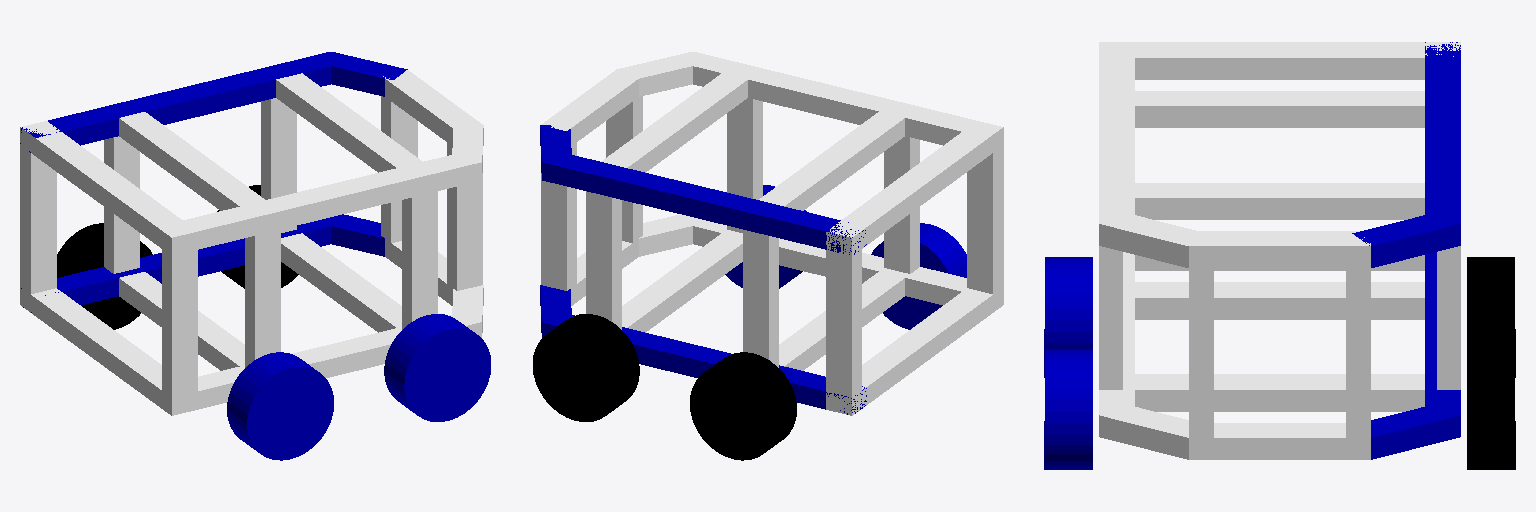
--- What the picture shows (computed from the rendered views, not written in the file) ---
3 views of the same robot in one strip: view 1: azimuth 30°, elevation 25°; view 2: azimuth 150°, elevation 25°; view 3: azimuth 270°, elevation 25° (orthographic).
Model GUELADAN with 31 links and 30 joints (4 continuous, 26 fixed), rooted at base_link, posed all joints at 0.
Visible links, largest first — view 1: chassis_top_link_right, back_right_wheel, front_right_wheel, chassis_top_link_left, chassis_top_link_back, chassis_link_back, chassis_top_link_2, chassis_top_link_1, base_chassis_bar_back_right, base_chassis_bar_back_left, chassis_link_2, chassis_link_right (+16 smaller); view 2: chassis_top_link_left, back_left_wheel, front_left_wheel, chassis_top_link_right, chassis_top_link_back, chassis_link_back, chassis_top_link_2, chassis_top_link_1, base_chassis_bar_back_left, base_chassis_bar_back_right, chassis_link_2, base_chassis_bar_back_2_left (+16 smaller); view 3: chassis_top_link_back, chassis_top_link_1, chassis_top_link_2, chassis_link_1, chassis_link_2, chassis_top_link_front, chassis_top_link_left, chassis_top_link_right, chassis_link_front, front_left_wheel, front_right_wheel, back_left_wheel (+12 smaller).
Boxes of the visible links, x1,y1,x2,y2 form: chassis_top_link_right: [160, 153, 481, 255]; back_right_wheel: [227, 352, 333, 460]; front_right_wheel: [384, 314, 490, 421]; chassis_top_link_left: [20, 52, 333, 152]; chassis_top_link_back: [20, 121, 197, 255]; chassis_link_back: [20, 287, 197, 415]; chassis_top_link_2: [276, 73, 422, 172]; chassis_top_link_1: [119, 112, 264, 210]; base_chassis_bar_back_right: [162, 249, 197, 397]; base_chassis_bar_back_left: [20, 145, 56, 293]; chassis_link_2: [281, 233, 401, 332]; chassis_link_right: [157, 311, 481, 415]; chassis_top_link_left: [542, 155, 866, 254]; back_left_wheel: [690, 352, 796, 460]; front_left_wheel: [533, 314, 639, 421]; chassis_top_link_right: [690, 52, 1003, 145]; chassis_top_link_back: [826, 121, 1003, 255]; chassis_link_back: [826, 287, 1003, 415]; chassis_top_link_2: [601, 73, 747, 172]; chassis_top_link_1: [759, 112, 904, 210]; base_chassis_bar_back_left: [826, 249, 861, 397]; base_chassis_bar_back_right: [967, 145, 1003, 293]; chassis_link_2: [622, 233, 742, 332]; base_chassis_bar_back_2_left: [586, 191, 621, 329]; chassis_top_link_back: [1099, 42, 1460, 79]; chassis_top_link_1: [1135, 91, 1424, 127]; chassis_top_link_2: [1135, 183, 1424, 219]; chassis_link_1: [1135, 282, 1424, 319]; chassis_link_2: [1135, 374, 1424, 411]; chassis_top_link_front: [1189, 231, 1370, 267]; chassis_top_link_left: [1425, 42, 1460, 223]; chassis_top_link_right: [1099, 42, 1134, 223]; chassis_link_front: [1189, 423, 1370, 459]; front_left_wheel: [1467, 349, 1515, 469]; front_right_wheel: [1044, 349, 1092, 469]; back_left_wheel: [1467, 257, 1515, 377].
Size in the robot's own frame: 0.8007 by 0.7802 by 0.5 metres.
Geometry: primitives only (box / cylinder / sphere), no mesh files.

robot.urdf — GUELADAN:
<?xml version="1.0" ?>
<!-- =================================================================================== -->
<!-- |    This document was autogenerated by xacro from gueladan.urdf.xacro            | -->
<!-- |    EDITING THIS FILE BY HAND IS NOT RECOMMENDED                                 | -->
<!-- =================================================================================== -->
<robot name="GUELADAN">
  <!-- Specify some standard inertial calculations https://en.wikipedia.org/wiki/List_of_moments_of_inertia -->
  <!-- These make use of xacro's mathematical functionality -->
  <material name="blue">
    <color rgba="0 0 0.8 1"/>
  </material>
  <material name="black">
    <color rgba="0 0 0 1"/>
  </material>
  <material name="white">
    <color rgba="1 1 1 1"/>
  </material>
  <link name="base_link"/>
  <joint name="base_join" type="fixed">
    <parent link="base_link"/>
    <child link="chassis_link_back"/>
    <origin rpy="0 0 0" xyz="-0.325 0 0"/>
  </joint>
  <link name="chassis_link_back">
    <visual>
      <geometry>
        <box size="0.06 0.6 0.04"/>
      </geometry>
      <origin rpy="0 0 0" xyz="0 0 0"/>
      <material name="white"/>
    </visual>
    <collision>
      <geometry>
        <box size="0.06 0.6 0.04"/>
      </geometry>
      <origin rpy="0 0 0" xyz="0 0 0"/>
    </collision>
    <inertial>
      <origin rpy="0 0 0" xyz="0 0 0"/>
      <mass value="1.8"/>
      <inertia ixx="0.05424" ixy="0.0" ixz="0.0" iyy="0.00078" iyz="0.0" izz="0.05454"/>
    </inertial>
  </link>
  <joint name="base_link_right_joint" type="fixed">
    <parent link="base_link"/>
    <child link="chassis_link_right"/>
    <origin rpy="0 0 0" xyz="0 -0.27 0"/>
  </joint>
  <joint name="base_link_left_joint" type="fixed">
    <parent link="base_link"/>
    <child link="chassis_link_left"/>
    <origin rpy="0 0 0" xyz="0 0.27 0"/>
  </joint>
  <link name="chassis_link_right">
    <visual>
      <geometry>
        <box size="0.71 0.06 0.04"/>
      </geometry>
      <origin rpy="0 0 0" xyz="0 0 0"/>
      <material name="white"/>
    </visual>
    <collision>
      <geometry>
        <box size="0.71 0.06 0.04"/>
      </geometry>
      <origin rpy="0 0 0" xyz="0 0 0"/>
      <material name="white"/>
    </collision>
    <inertial>
      <origin rpy="0 0 0" xyz="0 0 0"/>
      <mass value="2.13"/>
      <inertia ixx="0.0009229999999999999" ixy="0.0" ixz="0.0" iyy="0.08976175" iyz="0.0" izz="0.09011675000000001"/>
    </inertial>
  </link>
  <link name="chassis_link_left">
    <visual>
      <geometry>
        <box size="0.71 0.06 0.04"/>
      </geometry>
      <origin rpy="0 0 0" xyz="0 0 0"/>
      <material name="blue"/>
    </visual>
    <collision>
      <geometry>
        <box size="0.71 0.06 0.04"/>
      </geometry>
      <origin rpy="0 0 0" xyz="0 0 0"/>
      <material name="blue"/>
    </collision>
    <inertial>
      <origin rpy="0 0 0" xyz="0 0 0"/>
      <mass value="2.13"/>
      <inertia ixx="0.029039000000000002" ixy="0.0" ixz="0.0" iyy="0.11787775" iyz="0.0" izz="0.09011675000000001"/>
    </inertial>
  </link>
  <joint name="base_link_right_oblic_joint" type="fixed">
    <parent link="base_link"/>
    <child link="chassis_link_right_oblic"/>
    <origin rpy="0 0 -2.11" xyz="0.375 -0.21 0"/>
  </joint>
  <joint name="base_link_left_oblic_joint" type="fixed">
    <parent link="base_link"/>
    <child link="chassis_link_left_oblic"/>
    <origin rpy="0 0 2.11" xyz="0.375 0.21 0"/>
  </joint>
  <joint name="base_link_front_joint" type="fixed">
    <parent link="base_link"/>
    <child link="chassis_link_front"/>
    <origin rpy="0 0 0" xyz="0.415 0 0"/>
  </joint>
  <joint name="chassis_link_2_joint" type="fixed">
    <parent link="base_link"/>
    <child link="chassis_link_2"/>
    <origin rpy="0 0 0" xyz="0.2254 0 0"/>
  </joint>
  <joint name="chassis_link_1_joint" type="fixed">
    <parent link="base_link"/>
    <child link="chassis_link_1"/>
    <origin rpy="0 0 0" xyz="-0.1346 0 0"/>
  </joint>
  <link name="chassis_link_left_oblic">
    <visual>
      <geometry>
        <box size="0.175 0.06 0.04"/>
      </geometry>
      <origin rpy="0 0 0" xyz="0 0 0"/>
      <material name="blue"/>
    </visual>
    <collision>
      <geometry>
        <box size="0.175 0.06 0.04"/>
      </geometry>
      <origin rpy="0 0 0" xyz="0 0 0"/>
      <material name="blue"/>
    </collision>
    <inertial>
      <origin rpy="0 0 0" xyz="0 0 0"/>
      <mass value="0.525"/>
      <inertia ixx="0.00022749999999999997" ixy="0.0" ixz="0.0" iyy="0.0014098437499999999" iyz="0.0" izz="0.0014973437499999998"/>
    </inertial>
  </link>
  <link name="chassis_link_right_oblic">
    <visual>
      <geometry>
        <box size="0.175 0.06 0.04"/>
      </geometry>
      <origin rpy="0 0 0" xyz="0 0 0"/>
      <material name="white"/>
    </visual>
    <collision>
      <geometry>
        <box size="0.175 0.06 0.04"/>
      </geometry>
      <origin rpy="0 0 0" xyz="0 0 0"/>
      <material name="white"/>
    </collision>
    <inertial>
      <origin rpy="0 0 0" xyz="0 0 0"/>
      <mass value="0.525"/>
      <inertia ixx="0.007157500000000001" ixy="0.0" ixz="0.0" iyy="0.008339843750000001" iyz="0.0" izz="0.0014973437499999998"/>
    </inertial>
  </link>
  <link name="chassis_link_front">
    <visual>
      <geometry>
        <box size="0.06 0.3 0.04"/>
      </geometry>
      <origin rpy="0 0 0" xyz="0 0 0"/>
      <material name="white"/>
    </visual>
    <collision>
      <geometry>
        <box size="0.06 0.3 0.04"/>
      </geometry>
      <origin rpy="0 0 0" xyz="0 0 0"/>
      <material name="white"/>
    </collision>
    <inertial>
      <origin rpy="0 0 0" xyz="0 0 0"/>
      <mass value="0.9"/>
      <inertia ixx="0.00687" ixy="0.0" ixz="0.0" iyy="0.00039" iyz="0.0" izz="0.00702"/>
    </inertial>
  </link>
  <link name="chassis_link_1">
    <visual>
      <geometry>
        <box size="0.06 0.48 0.04"/>
      </geometry>
      <origin rpy="0 0 0" xyz="0 0 0"/>
      <material name="white"/>
    </visual>
    <collision>
      <geometry>
        <box size="0.06 0.48 0.04"/>
      </geometry>
      <origin rpy="0 0 0" xyz="0 0 0"/>
      <material name="white"/>
    </collision>
    <inertial>
      <origin rpy="0 0 0" xyz="0 0 0"/>
      <mass value="0.9"/>
      <inertia ixx="0.00687" ixy="0.0" ixz="0.0" iyy="0.00039" iyz="0.0" izz="0.00702"/>
    </inertial>
  </link>
  <link name="chassis_link_2">
    <visual>
      <geometry>
        <box size="0.06 0.48 0.04"/>
      </geometry>
      <origin rpy="0 0 0" xyz="0 0 0"/>
      <material name="white"/>
    </visual>
    <collision>
      <geometry>
        <box size="0.06 0.48 0.04"/>
      </geometry>
      <origin rpy="0 0 0" xyz="0 0 0"/>
      <material name="white"/>
    </collision>
    <inertial>
      <origin rpy="0 0 0" xyz="0 0 0"/>
      <mass value="0.9"/>
      <inertia ixx="0.00687" ixy="0.0" ixz="0.0" iyy="0.00039" iyz="0.0" izz="0.00702"/>
    </inertial>
  </link>
  <link name="back_left_wheel">
    <visual>
      <geometry>
        <cylinder length="0.08" radius="0.1"/>
      </geometry>
      <origin rpy="0 0 0" xyz="0 0 0"/>
      <material name="black"/>
    </visual>
    <collision>
      <geometry>
        <cylinder length="0.08" radius="0.1"/>
      </geometry>
      <origin rpy="0 0 0" xyz="0 0 0"/>
      <material name="black"/>
    </collision>
    <inertial>
      <origin rpy="0 0 0" xyz="0 0 0"/>
      <mass value="0.5"/>
      <inertia ixx="0.00027916666666666666" ixy="0.0" ixz="0.0" iyy="0.00027916666666666666" iyz="0.0" izz="2.5e-05"/>
    </inertial>
  </link>
  <link name="front_left_wheel">
    <visual>
      <geometry>
        <cylinder length="0.08" radius="0.1"/>
      </geometry>
      <origin rpy="0 0 0" xyz="0 0 0"/>
      <material name="black"/>
    </visual>
    <collision>
      <geometry>
        <cylinder length="0.08" radius="0.1"/>
      </geometry>
      <origin rpy="0 0 0" xyz="0 0 0"/>
      <material name="black"/>
    </collision>
    <inertial>
      <origin rpy="0 0 0" xyz="0 0 0"/>
      <mass value="0.5"/>
      <inertia ixx="0.00027916666666666666" ixy="0.0" ixz="0.0" iyy="0.00027916666666666666" iyz="0.0" izz="2.5e-05"/>
    </inertial>
  </link>
  <link name="back_right_wheel">
    <visual>
      <geometry>
        <cylinder length="0.08" radius="0.1"/>
      </geometry>
      <origin rpy="0 0 0" xyz="0 0 0"/>
      <material name="blue"/>
    </visual>
    <collision>
      <geometry>
        <cylinder length="0.08" radius="0.1"/>
      </geometry>
      <origin rpy="0 0 0" xyz="0 0 0"/>
      <material name="blue"/>
    </collision>
    <inertial>
      <origin rpy="0 0 0" xyz="0 0 0"/>
      <mass value="0.5"/>
      <inertia ixx="0.00027916666666666666" ixy="0.0" ixz="0.0" iyy="0.00027916666666666666" iyz="0.0" izz="2.5e-05"/>
    </inertial>
  </link>
  <link name="front_right_wheel">
    <visual>
      <geometry>
        <cylinder length="0.08" radius="0.1"/>
      </geometry>
      <origin rpy="0 0 0" xyz="0 0 0"/>
      <material name="blue"/>
    </visual>
    <collision>
      <geometry>
        <cylinder length="0.08" radius="0.1"/>
      </geometry>
      <origin rpy="0 0 0" xyz="0 0 0"/>
      <material name="blue"/>
    </collision>
    <inertial>
      <origin rpy="0 0 0" xyz="0 0 0"/>
      <mass value="0.5"/>
      <inertia ixx="0.00027916666666666666" ixy="0.0" ixz="0.0" iyy="0.00027916666666666666" iyz="0.0" izz="2.5e-05"/>
    </inertial>
  </link>
  <joint name="front_right_wheel_joint" type="continuous">
    <parent link="base_link"/>
    <child link="front_right_wheel"/>
    <origin rpy="1.57 0 0" xyz="0.2254 -0.35 -0.03"/>
    <axis xyz="0 0 -1"/>
  </joint>
  <transmission name="front_right_wheel_trans">
    <type>transmission_interface/SimpleTransmission</type>
    <actuator name="front_right_wheel_motor">
      <mechanicalReduction>1</mechanicalReduction>
    </actuator>
    <joint name="front_right_wheel_joint">
      <hardwareInterface>hardware_interface/VelocityJointInterface</hardwareInterface>
    </joint>
  </transmission>
  <joint name="back_right_wheel_joint" type="continuous">
    <parent link="base_link"/>
    <child link="back_right_wheel"/>
    <origin rpy="1.57 0 0" xyz="-0.1346 -0.35 -0.03"/>
    <axis xyz="0 0 -1"/>
  </joint>
  <transmission name="back_right_wheel_trans">
    <type>transmission_interface/SimpleTransmission</type>
    <actuator name="back_right_wheel_motor">
      <mechanicalReduction>1</mechanicalReduction>
    </actuator>
    <joint name="back_right_wheel_joint">
      <hardwareInterface>hardware_interface/VelocityJointInterface</hardwareInterface>
    </joint>
  </transmission>
  <joint name="front_left_wheel_joint" type="continuous">
    <parent link="base_link"/>
    <child link="front_left_wheel"/>
    <origin rpy="-1.57 0 0" xyz="0.2254 0.35 -0.03"/>
    <axis xyz="0 0 1"/>
  </joint>
  <transmission name="front_left_wheel_trans">
    <type>transmission_interface/SimpleTransmission</type>
    <actuator name="front_left_wheel_motor">
      <mechanicalReduction>1</mechanicalReduction>
    </actuator>
    <joint name="front_left_wheel_joint">
      <hardwareInterface>hardware_interface/VelocityJointInterface</hardwareInterface>
    </joint>
  </transmission>
  <joint name="back_left_wheel_joint" type="continuous">
    <parent link="base_link"/>
    <child link="back_left_wheel"/>
    <origin rpy="-1.57 0 0" xyz="-0.1346 0.35 -0.03"/>
    <axis xyz="0 0 1"/>
  </joint>
  <transmission name="back_left_wheel_trans">
    <type>transmission_interface/SimpleTransmission</type>
    <actuator name="back_left_wheel_motor">
      <mechanicalReduction>1</mechanicalReduction>
    </actuator>
    <joint name="back_left_wheel_joint">
      <hardwareInterface>hardware_interface/VelocityJointInterface</hardwareInterface>
    </joint>
  </transmission>
  <gazebo reference="back_right_wheel">
    <mu1 value="200.0"/>
    <mu2 value="100.0"/>
    <kp value="10000000.0"/>
    <kd value="1.0"/>
    <material>Gazebo/Grey</material>
  </gazebo>
  <gazebo reference="front_right_wheel">
    <mu1 value="200.0"/>
    <mu2 value="100.0"/>
    <kp value="10000000.0"/>
    <kd value="1.0"/>
    <material>Gazebo/Grey</material>
  </gazebo>
  <gazebo reference="front_left_wheel">
    <mu1 value="200.0"/>
    <mu2 value="100.0"/>
    <kp value="10000000.0"/>
    <kd value="1.0"/>
    <material>Gazebo/Grey</material>
  </gazebo>
  <gazebo reference="back_left_wheel">
    <mu1 value="200.0"/>
    <mu2 value="100.0"/>
    <kp value="10000000.0"/>
    <kd value="1.0"/>
    <material>Gazebo/Grey</material>
  </gazebo>
  <!-- Specify some standard inertial calculations https://en.wikipedia.org/wiki/List_of_moments_of_inertia -->
  <!-- These make use of xacro's mathematical functionality -->
  <joint name="base_top_join" type="fixed">
    <parent link="base_link"/>
    <child link="base_link_top"/>
    <origin rpy="0 0 0" xyz="0 0 0.35"/>
  </joint>
  <link name="base_link_top"/>
  <joint name="base_chassis_top_join" type="fixed">
    <parent link="base_link_top"/>
    <child link="chassis_top_link_back"/>
    <origin rpy="0 0 0" xyz="-0.325 0 0"/>
  </joint>
  <link name="chassis_top_link_back">
    <visual>
      <geometry>
        <box size="0.06 0.6 0.04"/>
      </geometry>
      <origin rpy="0 0 0" xyz="0 0 0"/>
      <material name="white"/>
    </visual>
    <collision>
      <geometry>
        <box size="0.06 0.6 0.04"/>
      </geometry>
      <origin rpy="0 0 0" xyz="0 0 0"/>
    </collision>
    <inertial>
      <origin rpy="0 0 0" xyz="0 0 0"/>
      <mass value="1.8"/>
      <inertia ixx="0.05424" ixy="0.0" ixz="0.0" iyy="0.00078" iyz="0.0" izz="0.05454"/>
    </inertial>
  </link>
  <joint name="base_link_top_right_joint" type="fixed">
    <parent link="base_link_top"/>
    <child link="chassis_top_link_right"/>
    <origin rpy="0 0 0" xyz="0 -0.27 0"/>
  </joint>
  <joint name="base_link_top_left_joint" type="fixed">
    <parent link="base_link_top"/>
    <child link="chassis_top_link_left"/>
    <origin rpy="0 0 0" xyz="0 0.27 0"/>
  </joint>
  <link name="chassis_top_link_right">
    <visual>
      <geometry>
        <box size="0.71 0.06 0.04"/>
      </geometry>
      <origin rpy="0 0 0" xyz="0 0 0"/>
      <material name="white"/>
    </visual>
    <collision>
      <geometry>
        <box size="0.71 0.06 0.04"/>
      </geometry>
      <origin rpy="0 0 0" xyz="0 0 0"/>
      <material name="white"/>
    </collision>
    <inertial>
      <origin rpy="0 0 0" xyz="0 0 0"/>
      <mass value="2.13"/>
      <inertia ixx="0.0009229999999999999" ixy="0.0" ixz="0.0" iyy="0.08976175" iyz="0.0" izz="0.09011675000000001"/>
    </inertial>
  </link>
  <link name="chassis_top_link_left">
    <visual>
      <geometry>
        <box size="0.71 0.06 0.04"/>
      </geometry>
      <origin rpy="0 0 0" xyz="0 0 0"/>
      <material name="blue"/>
    </visual>
    <collision>
      <geometry>
        <box size="0.71 0.06 0.04"/>
      </geometry>
      <origin rpy="0 0 0" xyz="0 0 0"/>
      <material name="blue"/>
    </collision>
    <inertial>
      <origin rpy="0 0 0" xyz="0 0 0"/>
      <mass value="2.13"/>
      <inertia ixx="0.029039000000000002" ixy="0.0" ixz="0.0" iyy="0.11787775" iyz="0.0" izz="0.09011675000000001"/>
    </inertial>
  </link>
  <joint name="base_link_top_right_oblic_joint" type="fixed">
    <parent link="base_link_top"/>
    <child link="chassis_top_link_right_oblic"/>
    <origin rpy="0 0 -2.11" xyz="0.375 -0.21 0"/>
  </joint>
  <joint name="base_link_top_left_oblic_joint" type="fixed">
    <parent link="base_link_top"/>
    <child link="chassis_top_link_left_oblic"/>
    <origin rpy="0 0 2.11" xyz="0.375 0.21 0"/>
  </joint>
  <joint name="base_link_top_front_joint" type="fixed">
    <parent link="base_link_top"/>
    <child link="chassis_top_link_front"/>
    <origin rpy="0 0 0" xyz="0.415 0 0"/>
  </joint>
  <joint name="chassis_top_link_2_joint" type="fixed">
    <parent link="base_link_top"/>
    <child link="chassis_top_link_2"/>
    <origin rpy="0 0 0" xyz="0.2254 0 0"/>
  </joint>
  <joint name="chassis_top_link_1_joint" type="fixed">
    <parent link="base_link_top"/>
    <child link="chassis_top_link_1"/>
    <origin rpy="0 0 0" xyz="-0.1346 0 0"/>
  </joint>
  <link name="chassis_top_link_left_oblic">
    <visual>
      <geometry>
        <box size="0.175 0.06 0.04"/>
      </geometry>
      <origin rpy="0 0 0" xyz="0 0 0"/>
      <material name="blue"/>
    </visual>
    <collision>
      <geometry>
        <box size="0.175 0.06 0.04"/>
      </geometry>
      <origin rpy="0 0 0" xyz="0 0 0"/>
      <material name="blue"/>
    </collision>
    <inertial>
      <origin rpy="0 0 0" xyz="0 0 0"/>
      <mass value="0.525"/>
      <inertia ixx="0.00022749999999999997" ixy="0.0" ixz="0.0" iyy="0.0014098437499999999" iyz="0.0" izz="0.0014973437499999998"/>
    </inertial>
  </link>
  <link name="chassis_top_link_right_oblic">
    <visual>
      <geometry>
        <box size="0.175 0.06 0.04"/>
      </geometry>
      <origin rpy="0 0 0" xyz="0 0 0"/>
      <material name="white"/>
    </visual>
    <collision>
      <geometry>
        <box size="0.175 0.06 0.04"/>
      </geometry>
      <origin rpy="0 0 0" xyz="0 0 0"/>
      <material name="white"/>
    </collision>
    <inertial>
      <origin rpy="0 0 0" xyz="0 0 0"/>
      <mass value="0.525"/>
      <inertia ixx="0.007157500000000001" ixy="0.0" ixz="0.0" iyy="0.008339843750000001" iyz="0.0" izz="0.0014973437499999998"/>
    </inertial>
  </link>
  <link name="chassis_top_link_front">
    <visual>
      <geometry>
        <box size="0.06 0.3 0.04"/>
      </geometry>
      <origin rpy="0 0 0" xyz="0 0 0"/>
      <material name="white"/>
    </visual>
    <collision>
      <geometry>
        <box size="0.06 0.3 0.04"/>
      </geometry>
      <origin rpy="0 0 0" xyz="0 0 0"/>
      <material name="white"/>
    </collision>
    <inertial>
      <origin rpy="0 0 0" xyz="0 0 0"/>
      <mass value="0.9"/>
      <inertia ixx="0.00687" ixy="0.0" ixz="0.0" iyy="0.00039" iyz="0.0" izz="0.00702"/>
    </inertial>
  </link>
  <link name="chassis_top_link_1">
    <visual>
      <geometry>
        <box size="0.06 0.48 0.04"/>
      </geometry>
      <origin rpy="0 0 0" xyz="0 0 0"/>
      <material name="white"/>
    </visual>
    <collision>
      <geometry>
        <box size="0.06 0.48 0.04"/>
      </geometry>
      <origin rpy="0 0 0" xyz="0 0 0"/>
      <material name="white"/>
    </collision>
    <inertial>
      <origin rpy="0 0 0" xyz="0 0 0"/>
      <mass value="0.9"/>
      <inertia ixx="0.00687" ixy="0.0" ixz="0.0" iyy="0.00039" iyz="0.0" izz="0.00702"/>
    </inertial>
  </link>
  <link name="chassis_top_link_2">
    <visual>
      <geometry>
        <box size="0.06 0.48 0.04"/>
      </geometry>
      <origin rpy="0 0 0" xyz="0 0 0"/>
      <material name="white"/>
    </visual>
    <collision>
      <geometry>
        <box size="0.06 0.48 0.04"/>
      </geometry>
      <origin rpy="0 0 0" xyz="0 0 0"/>
      <material name="white"/>
    </collision>
    <inertial>
      <origin rpy="0 0 0" xyz="0 0 0"/>
      <mass value="0.9"/>
      <inertia ixx="0.00687" ixy="0.0" ixz="0.0" iyy="0.00039" iyz="0.0" izz="0.00702"/>
    </inertial>
  </link>
  <gazebo>
    <plugin filename="libgazebo_ros_control.so" name="gazebo_ros_control">
      <robotNamespace>/</robotNamespace>
    </plugin>
  </gazebo>
  <!-- Specify some standard inertial calculations https://en.wikipedia.org/wiki/List_of_moments_of_inertia -->
  <!-- These make use of xacro's mathematical functionality -->
  <joint name="base_bar_join" type="fixed">
    <parent link="base_link"/>
    <child link="base_bar_link"/>
    <origin rpy="0 0 0" xyz="0 0 0.175"/>
  </joint>
  <link name="base_bar_link"/>
  <joint name="base_chassis_bar_front_left_joint" type="fixed">
    <parent link="base_bar_link"/>
    <child link="base_chassis_bar_front_left"/>
    <origin rpy="0 0 0" xyz="0.415 0.13 0"/>
  </joint>
  <link name="base_chassis_bar_front_left">
    <visual>
      <geometry>
        <box size="0.06 0.04 0.31"/>
      </geometry>
      <origin rpy="0 0 0" xyz="0 0 0"/>
      <material name="white"/>
    </visual>
    <collision>
      <geometry>
        <box size="0.06 0.04 0.31"/>
      </geometry>
      <origin rpy="0 0 0" xyz="0 0 0"/>
    </collision>
    <inertial>
      <origin rpy="0 0 0" xyz="0 0 0"/>
      <mass value="0.93"/>
      <inertia ixx="0.00757175" ixy="0.0" ixz="0.0" iyy="0.007726750000000001" iyz="0.0" izz="0.000403"/>
    </inertial>
  </link>
  <joint name="base_chassis_bar_front_right_joint" type="fixed">
    <parent link="base_bar_link"/>
    <child link="base_chassis_bar_front_right"/>
    <origin rpy="0 0 0" xyz="0.415 -0.13 0"/>
  </joint>
  <link name="base_chassis_bar_front_right">
    <visual>
      <geometry>
        <box size="0.06 0.04 0.31"/>
      </geometry>
      <origin rpy="0 0 0" xyz="0 0 0"/>
      <material name="white"/>
    </visual>
    <collision>
      <geometry>
        <box size="0.06 0.04 0.31"/>
      </geometry>
      <origin rpy="0 0 0" xyz="0 0 0"/>
    </collision>
    <inertial>
      <origin rpy="0 0 0" xyz="0 0 0"/>
      <mass value="0.93"/>
      <inertia ixx="0.00757175" ixy="0.0" ixz="0.0" iyy="0.007726750000000001" iyz="0.0" izz="0.000403"/>
    </inertial>
  </link>
  <joint name="base_chassis_bar_back_2_left_joint" type="fixed">
    <parent link="base_bar_link"/>
    <child link="base_chassis_bar_back_2_left"/>
    <origin rpy="0 0 0" xyz="0.2254 0.28 0"/>
  </joint>
  <link name="base_chassis_bar_back_2_left">
    <visual>
      <geometry>
        <box size="0.06 0.04 0.31"/>
      </geometry>
      <origin rpy="0 0 0" xyz="0 0 0"/>
      <material name="white"/>
    </visual>
    <collision>
      <geometry>
        <box size="0.06 0.04 0.31"/>
      </geometry>
      <origin rpy="0 0 0" xyz="0 0 0"/>
    </collision>
    <inertial>
      <origin rpy="0 0 0" xyz="0 0 0"/>
      <mass value="0.93"/>
      <inertia ixx="0.00757175" ixy="0.0" ixz="0.0" iyy="0.007726750000000001" iyz="0.0" izz="0.000403"/>
    </inertial>
  </link>
  <joint name="base_chassis_bar_back_2_right_joint" type="fixed">
    <parent link="base_bar_link"/>
    <child link="base_chassis_bar_back_2_right"/>
    <origin rpy="0 0 0" xyz="0.2254 -0.28 0"/>
  </joint>
  <link name="base_chassis_bar_back_2_right">
    <visual>
      <geometry>
        <box size="0.06 0.04 0.31"/>
      </geometry>
      <origin rpy="0 0 0" xyz="0 0 0"/>
      <material name="white"/>
    </visual>
    <collision>
      <geometry>
        <box size="0.06 0.04 0.31"/>
      </geometry>
      <origin rpy="0 0 0" xyz="0 0 0"/>
    </collision>
    <inertial>
      <origin rpy="0 0 0" xyz="0 0 0"/>
      <mass value="0.93"/>
      <inertia ixx="0.00757175" ixy="0.0" ixz="0.0" iyy="0.007726750000000001" iyz="0.0" izz="0.000403"/>
    </inertial>
  </link>
  <joint name="base_chassis_bar_back_1_left_joint" type="fixed">
    <parent link="base_bar_link"/>
    <child link="base_chassis_bar_back_1_left"/>
    <origin rpy="0 0 0" xyz="-0.1346 0.28 0"/>
  </joint>
  <link name="base_chassis_bar_back_1_left">
    <visual>
      <geometry>
        <box size="0.06 0.04 0.31"/>
      </geometry>
      <origin rpy="0 0 0" xyz="0 0 0"/>
      <material name="white"/>
    </visual>
    <collision>
      <geometry>
        <box size="0.06 0.04 0.31"/>
      </geometry>
      <origin rpy="0 0 0" xyz="0 0 0"/>
    </collision>
    <inertial>
      <origin rpy="0 0 0" xyz="0 0 0"/>
      <mass value="0.93"/>
      <inertia ixx="0.00757175" ixy="0.0" ixz="0.0" iyy="0.007726750000000001" iyz="0.0" izz="0.000403"/>
    </inertial>
  </link>
  <joint name="base_chassis_bar_back_1_right_joint" type="fixed">
    <parent link="base_bar_link"/>
    <child link="base_chassis_bar_back_1_right"/>
    <origin rpy="0 0 0" xyz="-0.1346 -0.28 0"/>
  </joint>
  <link name="base_chassis_bar_back_1_right">
    <visual>
      <geometry>
        <box size="0.06 0.04 0.31"/>
      </geometry>
      <origin rpy="0 0 0" xyz="0 0 0"/>
      <material name="white"/>
    </visual>
    <collision>
      <geometry>
        <box size="0.06 0.04 0.31"/>
      </geometry>
      <origin rpy="0 0 0" xyz="0 0 0"/>
    </collision>
    <inertial>
      <origin rpy="0 0 0" xyz="0 0 0"/>
      <mass value="0.93"/>
      <inertia ixx="0.00757175" ixy="0.0" ixz="0.0" iyy="0.007726750000000001" iyz="0.0" izz="0.000403"/>
    </inertial>
  </link>
  <joint name="base_chassis_bar_back_left_joint" type="fixed">
    <parent link="base_bar_link"/>
    <child link="base_chassis_bar_back_left"/>
    <origin rpy="0 0 0" xyz="-0.325 0.28 0"/>
  </joint>
  <link name="base_chassis_bar_back_left">
    <visual>
      <geometry>
        <box size="0.06 0.04 0.31"/>
      </geometry>
      <origin rpy="0 0 0" xyz="0 0 0"/>
      <material name="white"/>
    </visual>
    <collision>
      <geometry>
        <box size="0.06 0.04 0.31"/>
      </geometry>
      <origin rpy="0 0 0" xyz="0 0 0"/>
    </collision>
    <inertial>
      <origin rpy="0 0 0" xyz="0 0 0"/>
      <mass value="0.93"/>
      <inertia ixx="0.00757175" ixy="0.0" ixz="0.0" iyy="0.007726750000000001" iyz="0.0" izz="0.000403"/>
    </inertial>
  </link>
  <joint name="base_chassis_bar_back_right_joint" type="fixed">
    <parent link="base_bar_link"/>
    <child link="base_chassis_bar_back_right"/>
    <origin rpy="0 0 0" xyz="-0.325 -0.28 0"/>
  </joint>
  <link name="base_chassis_bar_back_right">
    <visual>
      <geometry>
        <box size="0.06 0.04 0.31"/>
      </geometry>
      <origin rpy="0 0 0" xyz="0 0 0"/>
      <material name="white"/>
    </visual>
    <collision>
      <geometry>
        <box size="0.06 0.04 0.31"/>
      </geometry>
      <origin rpy="0 0 0" xyz="0 0 0"/>
    </collision>
    <inertial>
      <origin rpy="0 0 0" xyz="0 0 0"/>
      <mass value="0.93"/>
      <inertia ixx="0.00757175" ixy="0.0" ixz="0.0" iyy="0.007726750000000001" iyz="0.0" izz="0.000403"/>
    </inertial>
  </link>
  <gazebo>
    <plugin filename="libgazebo_ros_control.so" name="gazebo_ros_control">
      <robotNamespace>/</robotNamespace>
    </plugin>
  </gazebo>
</robot>
